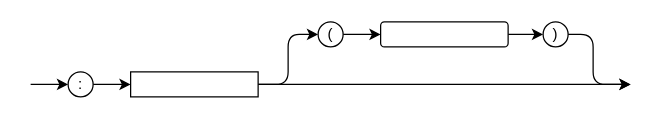
This 663x119 diagram has some shape labels left out. The shapes that lost their labels are listed below. From the top down, each one's centre as x and y in pixels, then its label:
At point (443, 34): "render frame".
At point (193, 84): "pprint".
